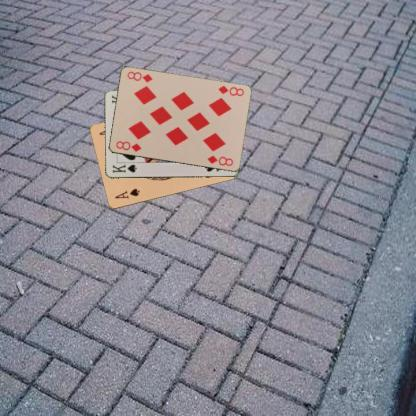8d: (215, 83, 245, 98), (113, 139, 142, 153)
As: (112, 186, 141, 200)
Ks: (110, 162, 138, 174)
